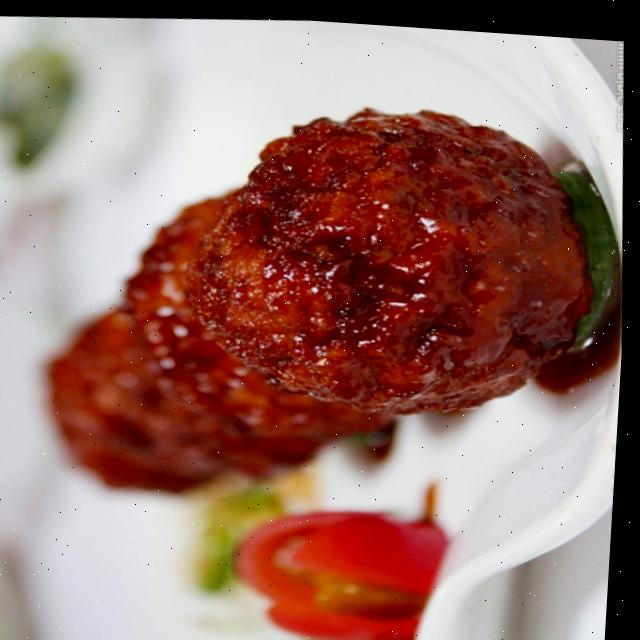猪肉菜式: (0, 0, 619, 640)
